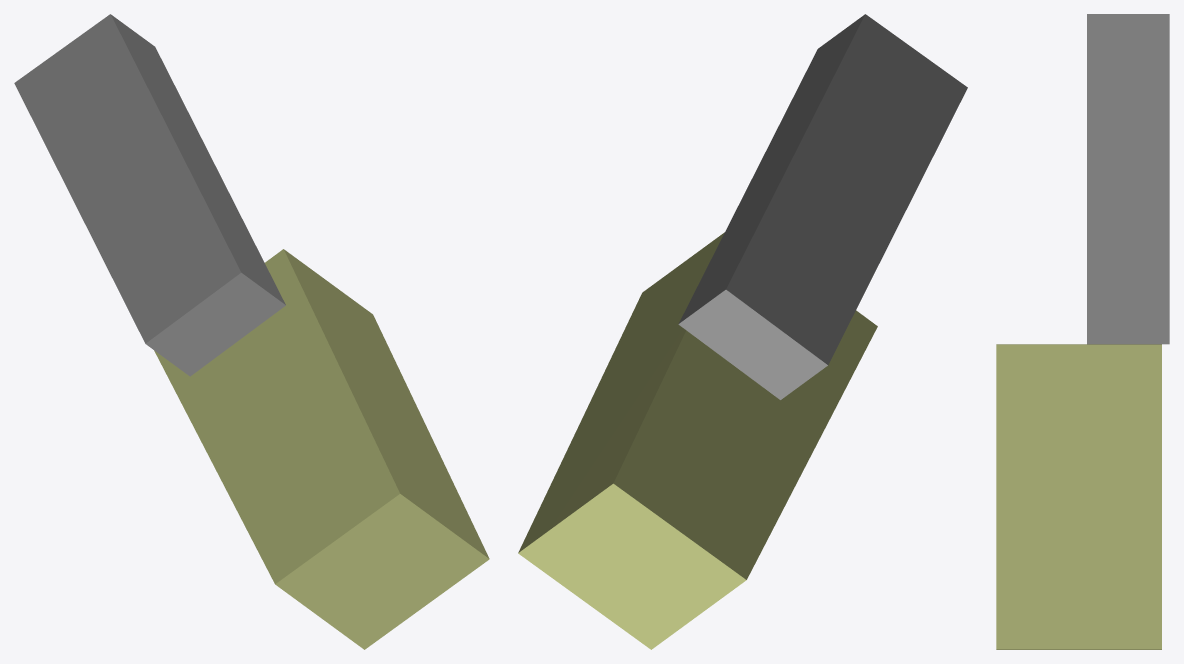
3 views of the same model, side by side, from view 1: azimuth 30°, elevation 25°; view 2: azimuth 150°, elevation 25°; view 3: azimuth 270°, elevation 25° (orthographic). The views are drawn at different scales.
Parts seen in each view (by area): view 1: 0_1_1_3_2_3_1_1_0; view 2: 0_1_1_3_2_3_1_1_0; view 3: 0_1_1_3_2_3_1_1_0.
Part boxes in pixels (x1,y1,x2,y2): 0_1_1_3_2_3_1_1_0: (14, 14, 489, 649); 0_1_1_3_2_3_1_1_0: (518, 14, 967, 649); 0_1_1_3_2_3_1_1_0: (996, 14, 1169, 649).
Size of the model in its own units: 14.77 by 22.42 by 6.28.
